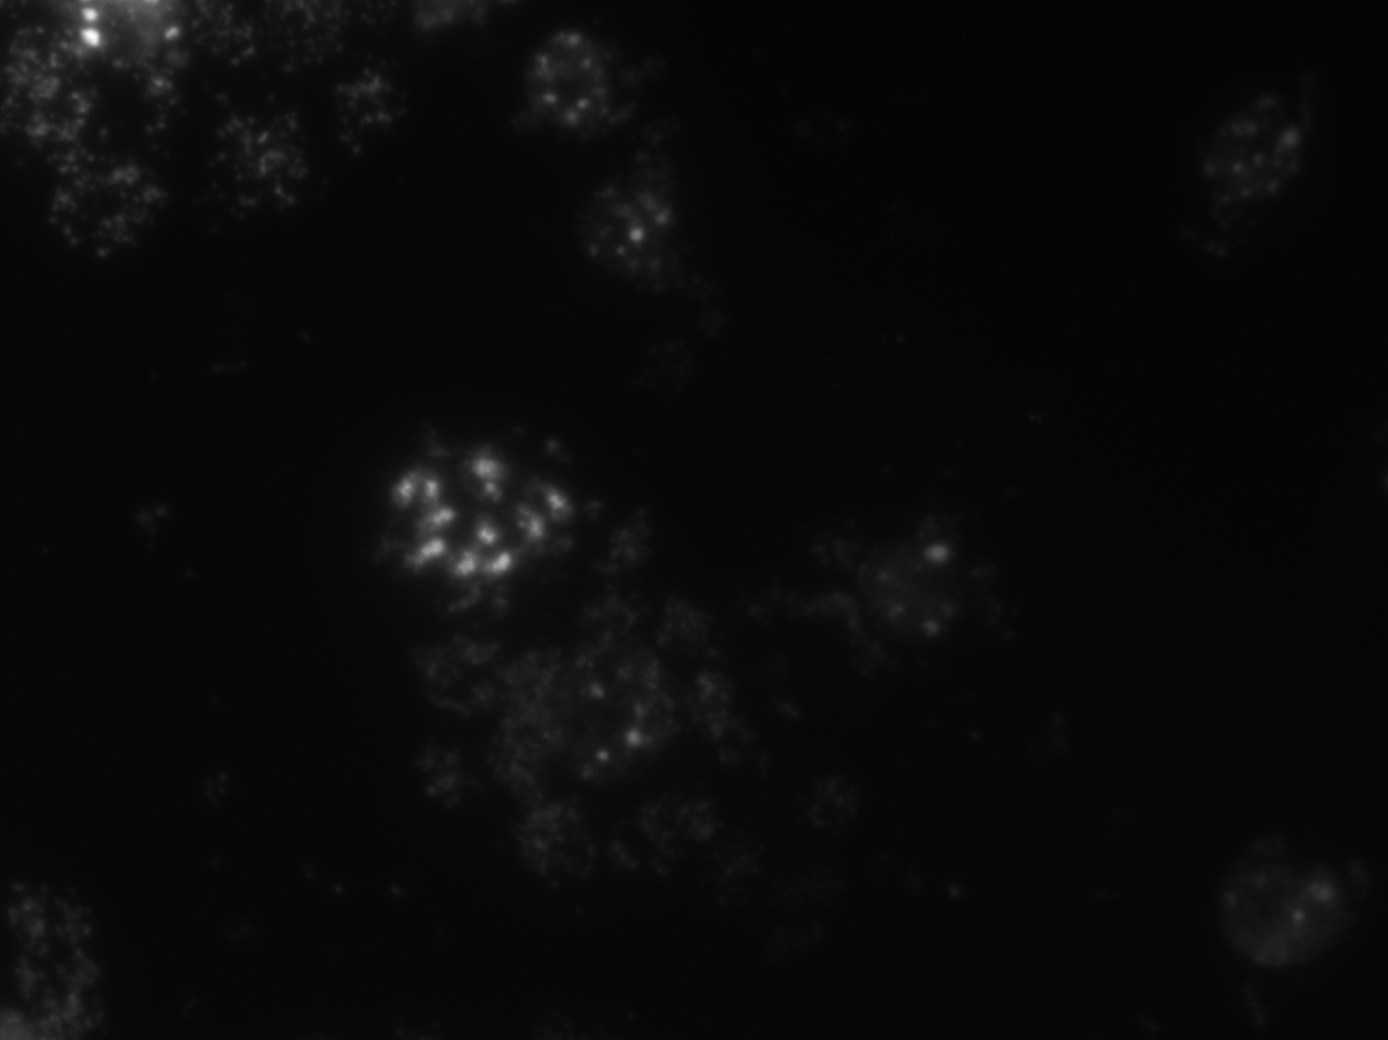Chromosomes: (339, 412, 597, 615)
Others: (340, 414, 817, 953), (1162, 805, 1386, 1007)
